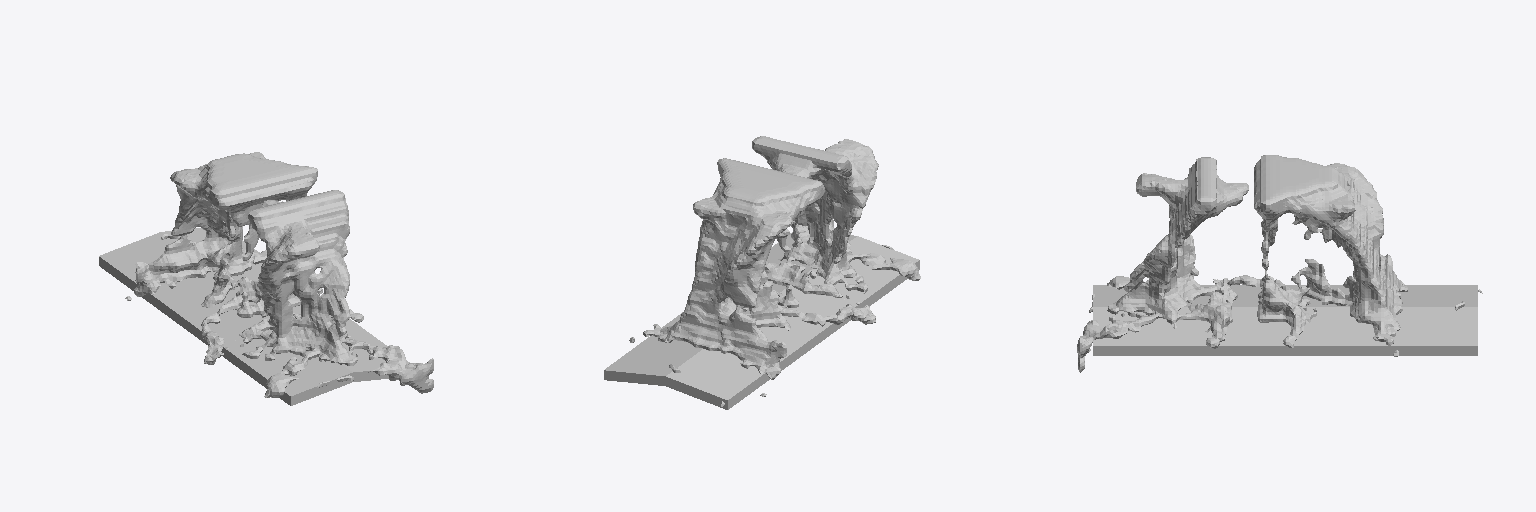
File: Watersim_000029.obj
3 views of the same model, side by side, from view 1: azimuth 30°, elevation 25°; view 2: azimuth 150°, elevation 25°; view 3: azimuth 270°, elevation 25° (orthographic).
Visible parts, largest first — view 1: Domain_Cube.006, Straße_Cube.007; view 2: Domain_Cube.006, Straße_Cube.007; view 3: Domain_Cube.006, Straße_Cube.007.
Part boxes in pixels (left/top/right/bottom): Domain_Cube.006: left=125, top=152, right=433, bottom=397; Straße_Cube.007: left=99, top=228, right=409, bottom=405; Domain_Cube.006: left=629, top=136, right=920, bottom=406; Straße_Cube.007: left=604, top=232, right=919, bottom=409; Domain_Cube.006: left=1077, top=155, right=1482, bottom=372; Straße_Cube.007: left=1093, top=285, right=1477, bottom=355.
Bounding box in the file's own units: 2.93 × 2.82 × 6.4.